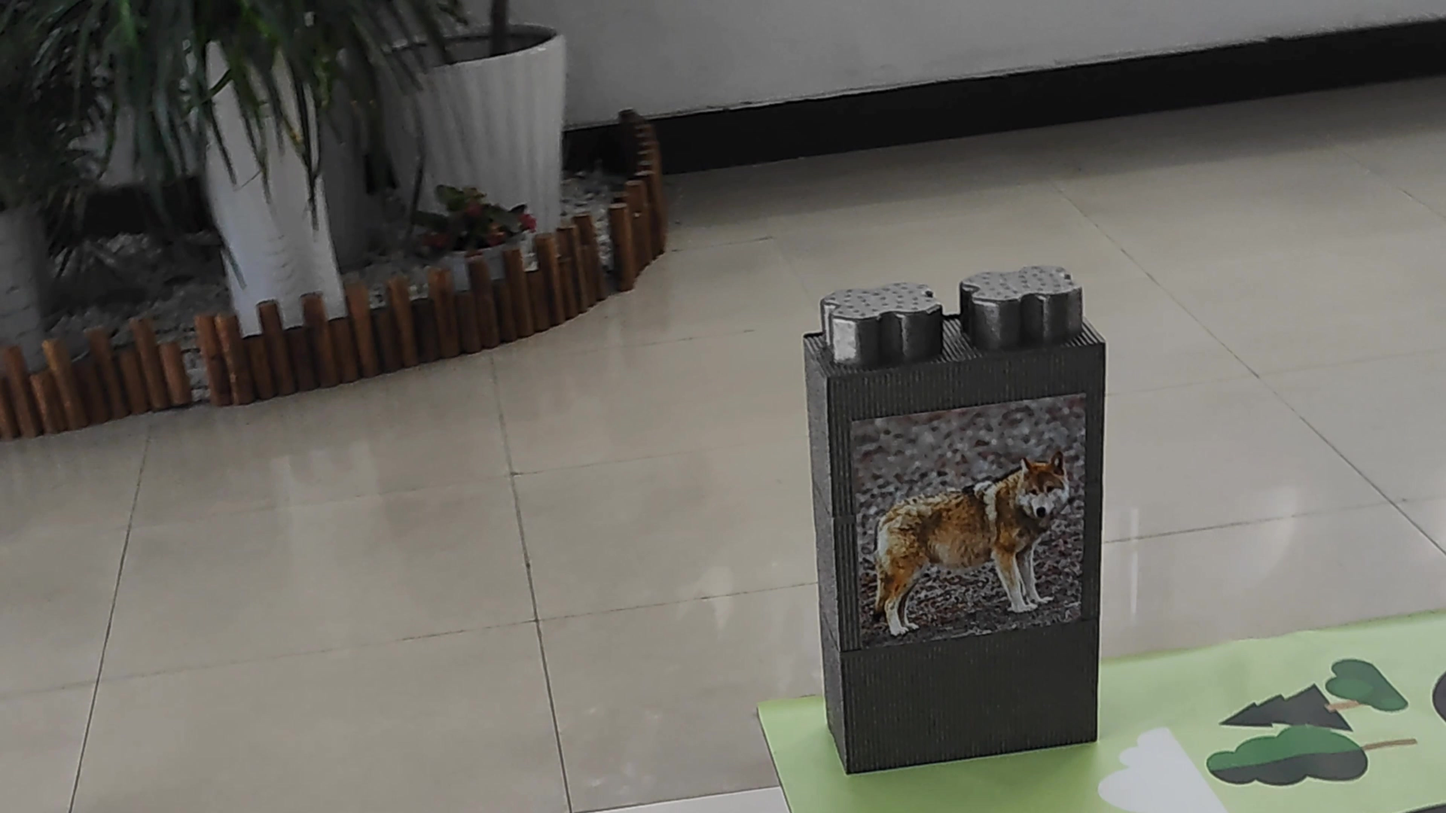wolf: (863, 434, 1084, 618)
